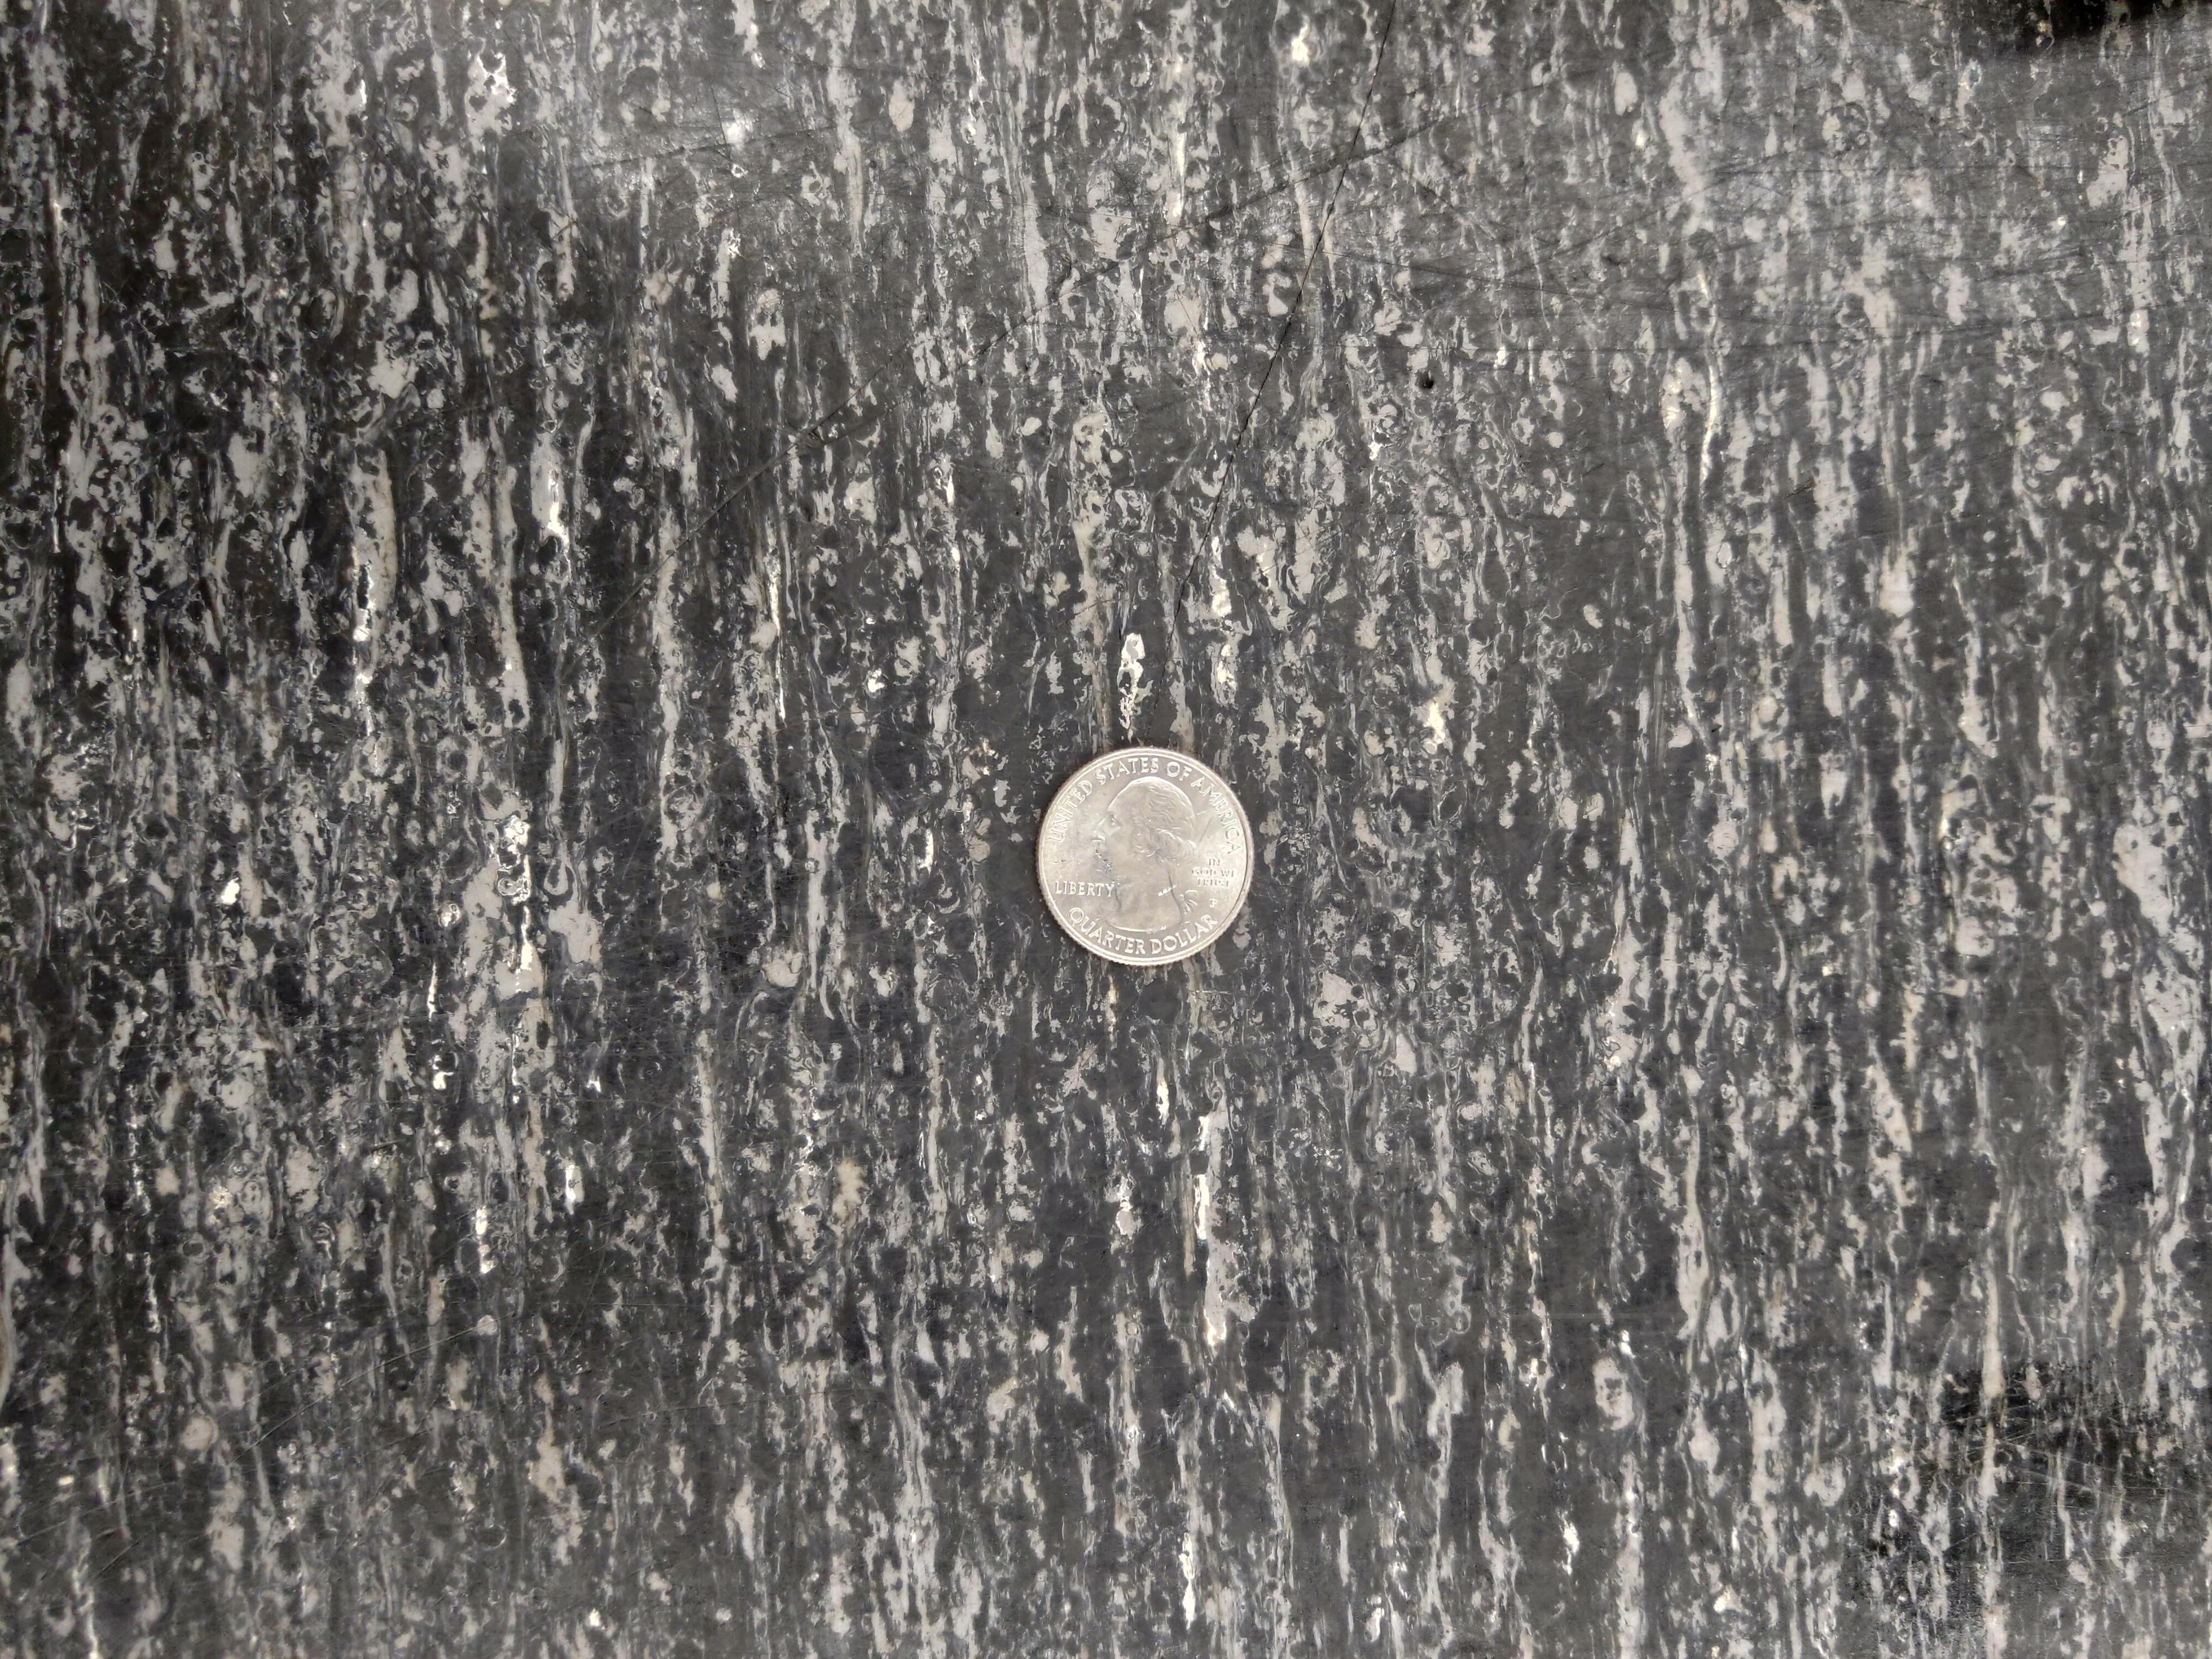Quarter: (1035, 744, 1258, 969)
